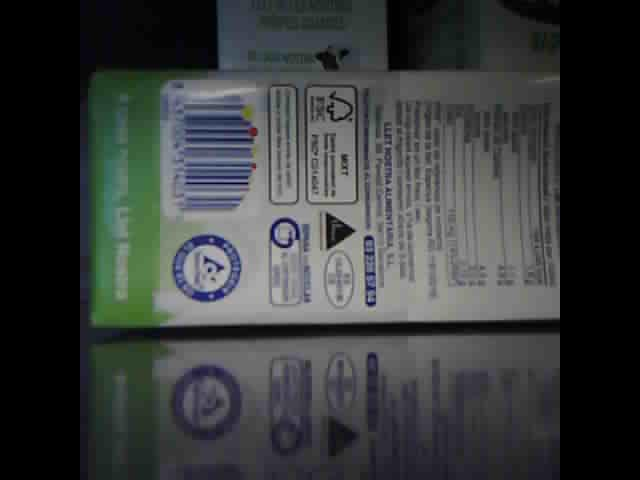leche: (88, 68, 560, 329), (215, 1, 388, 71), (419, 2, 559, 75)
